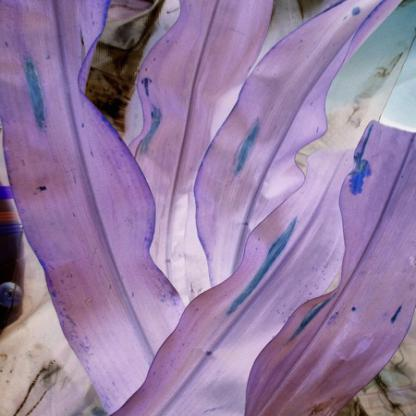Corn leaf blight: (5, 6, 172, 411), (179, 7, 394, 303), (146, 150, 347, 415), (246, 118, 415, 415), (124, 1, 265, 292)
